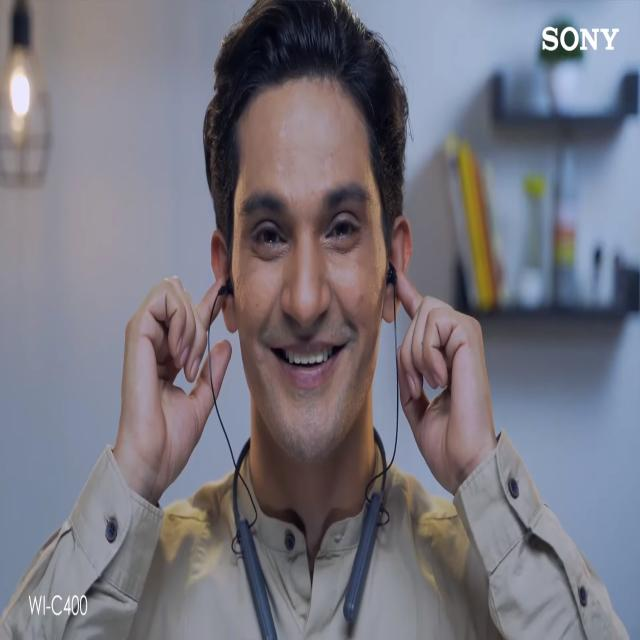Neckband: (206, 258, 399, 640)
